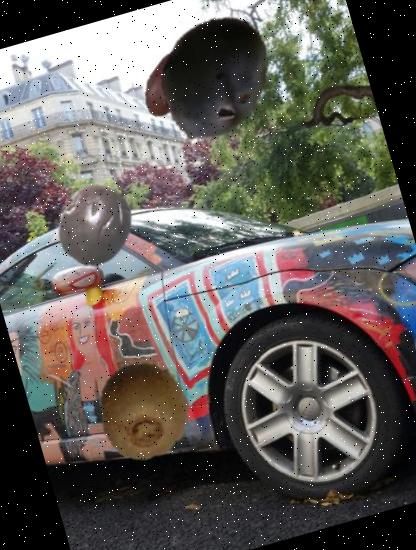Kiwi: (82, 349, 204, 472)
Passion: (42, 171, 148, 276)
Plum: (132, 0, 295, 159)
Potato: (126, 36, 220, 130)
